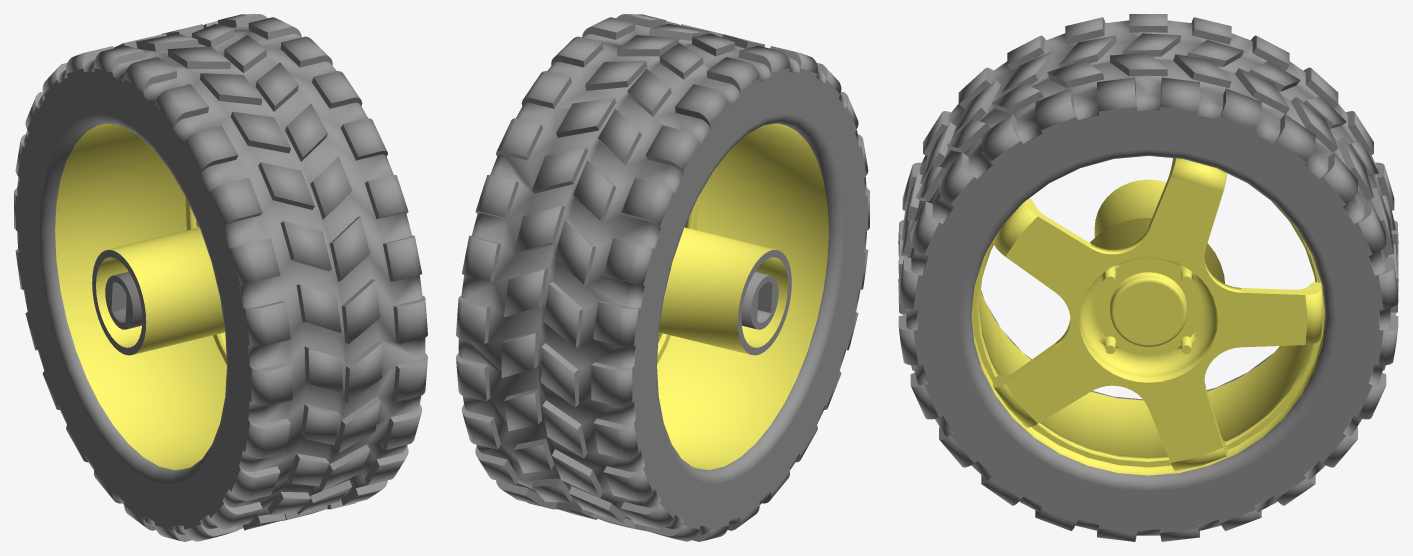
Rendered from wheel_left.dae.
The picture shows the model from 3 angles, left to right: view 1: azimuth 30°, elevation 25°; view 2: azimuth 150°, elevation 25°; view 3: azimuth 270°, elevation 25°; orthographic projection.
Parts seen in each view (by area): view 1: _ncl1_2; view 2: _ncl1_2; view 3: _ncl1_2.
Boxes of the visible parts, x1,y1,x2,y2 form: _ncl1_2: [14, 14, 427, 541]; _ncl1_2: [456, 14, 869, 541]; _ncl1_2: [898, 14, 1398, 541].
Bounding box in the file's own units: 0.0282 × 0.065 × 0.065.
